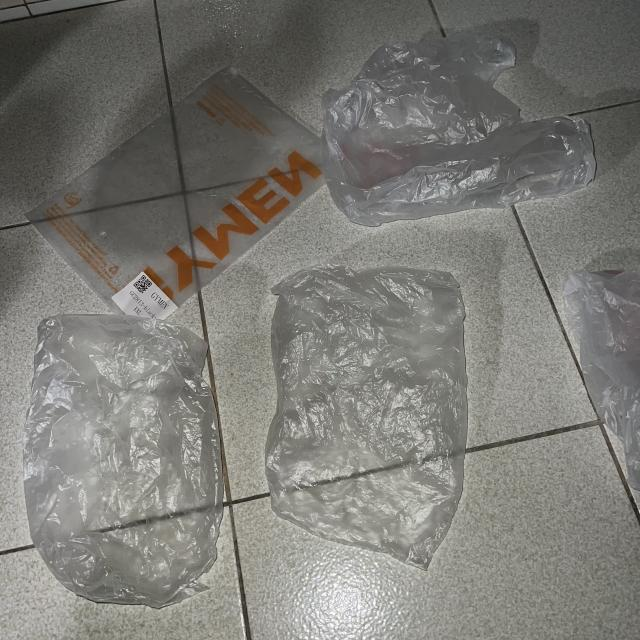Single-layer Plastic: (28, 68, 324, 311), (266, 265, 468, 568), (24, 316, 222, 607), (322, 32, 596, 224), (564, 272, 640, 492)
